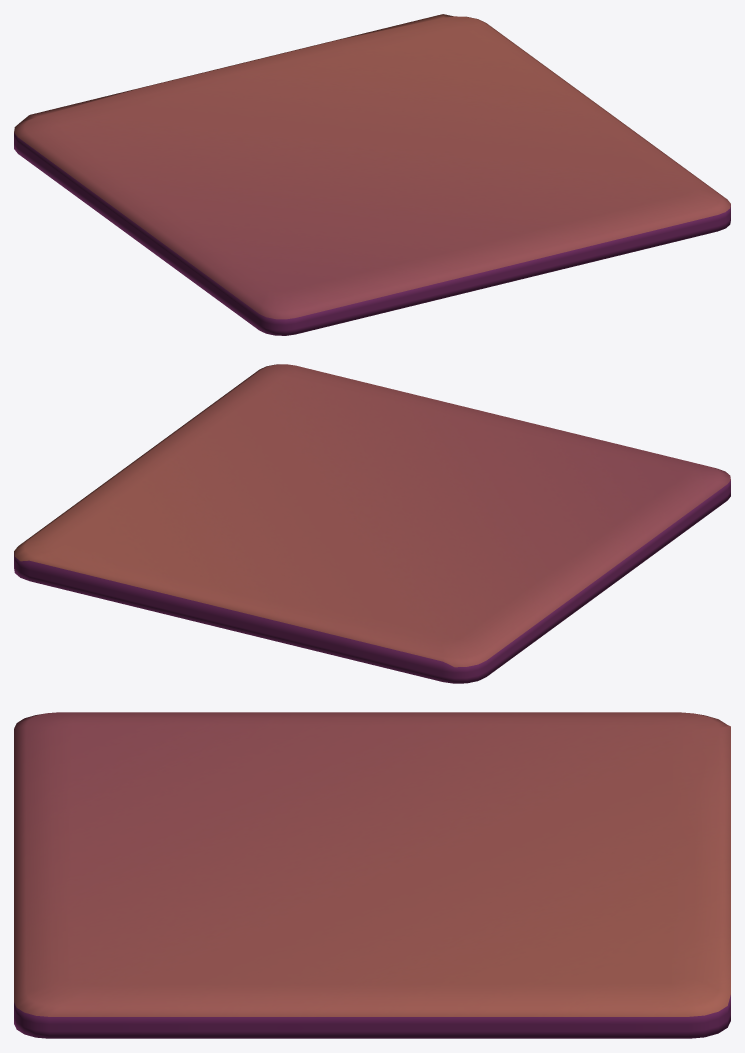
File: SM_Props_Rock_Flat.fbx
The picture shows the model from 3 angles, top to bottom: view 1: azimuth 30°, elevation 25°; view 2: azimuth 150°, elevation 25°; view 3: azimuth 270°, elevation 25°; orthographic projection. The views are drawn at different scales.
Parts seen in each view (by area): view 1: Batu Pipih; view 2: Batu Pipih; view 3: Batu Pipih.
Part boxes in pixels (bbox=[...]): Batu Pipih: bbox=[14, 14, 730, 335]; Batu Pipih: bbox=[14, 364, 730, 683]; Batu Pipih: bbox=[14, 712, 730, 1038].
Size of the model in its own units: 200 by 10 by 200.
1 material, 1 textured.
